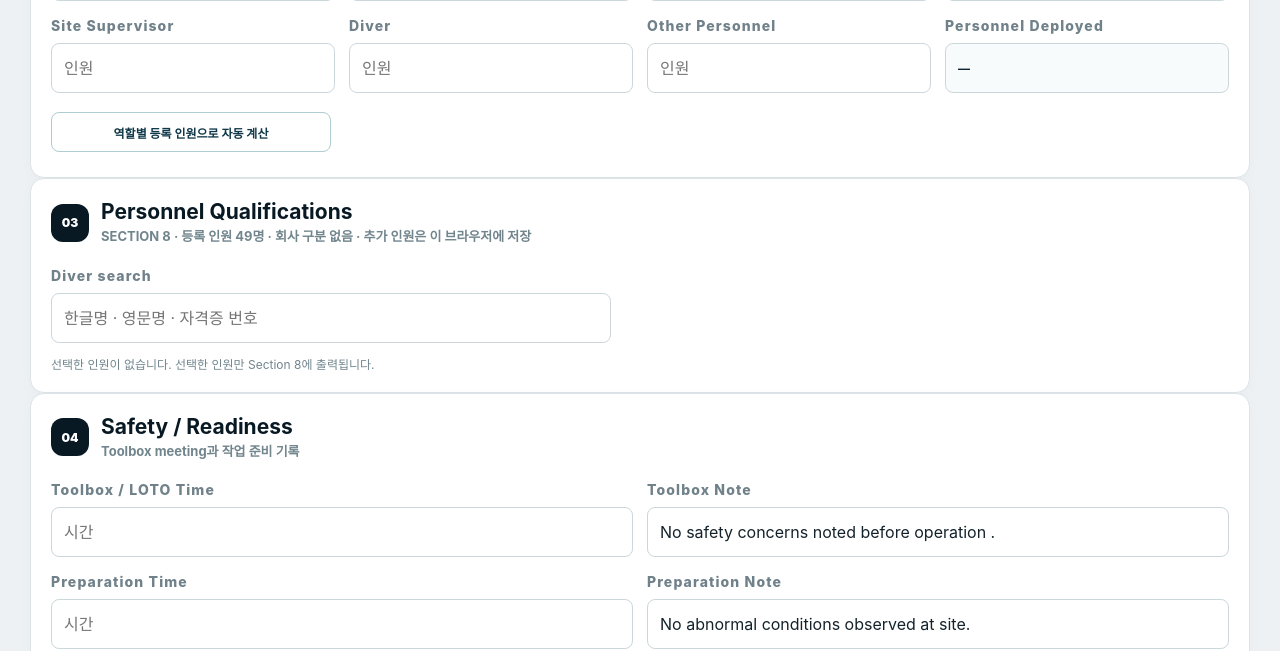
Test: Report Information › searches the company-neutral diver database and selects personnel for Section 8
(page scrolled)
In the field labelled "Diver search": (331, 318) left=51, top=292, right=611, bottom=342, type "Kim-Dongu"
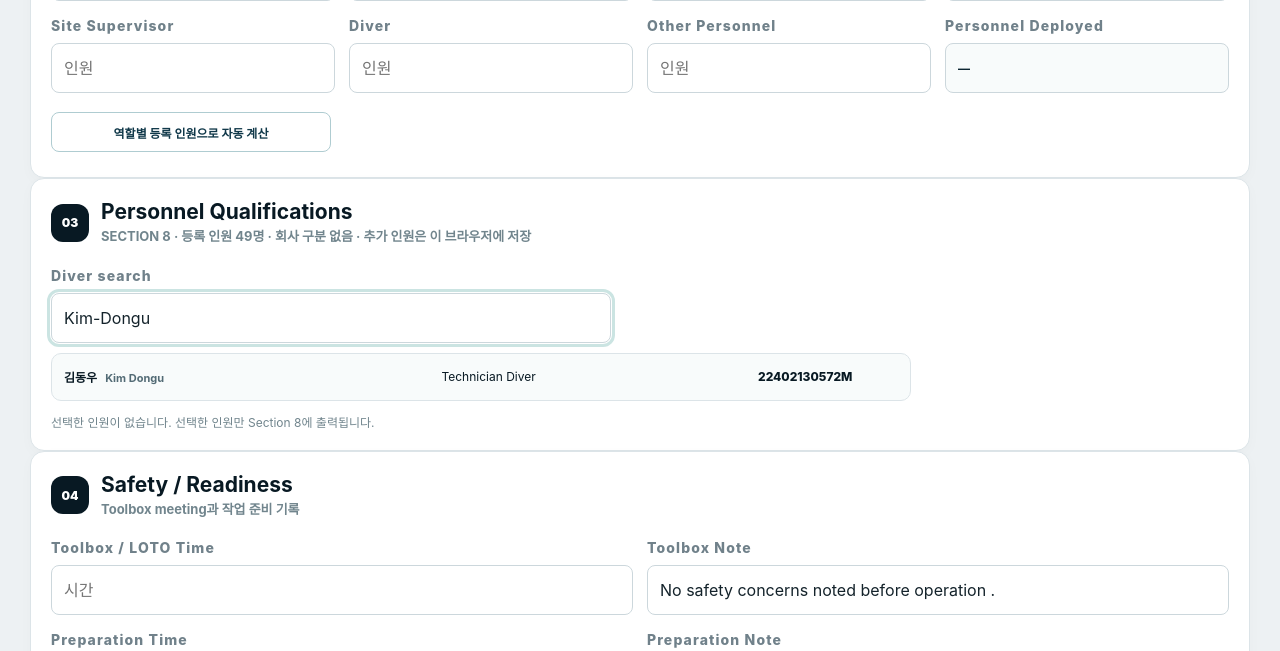
Expected: the button with aria-label "김동우 선택" shows "Kim Dongu"
Expected: the button with aria-label "김동우 선택" shows "22402130572M"
Click the button with aria-label "김동우 선택": (481, 376) left=51, top=352, right=911, bottom=400
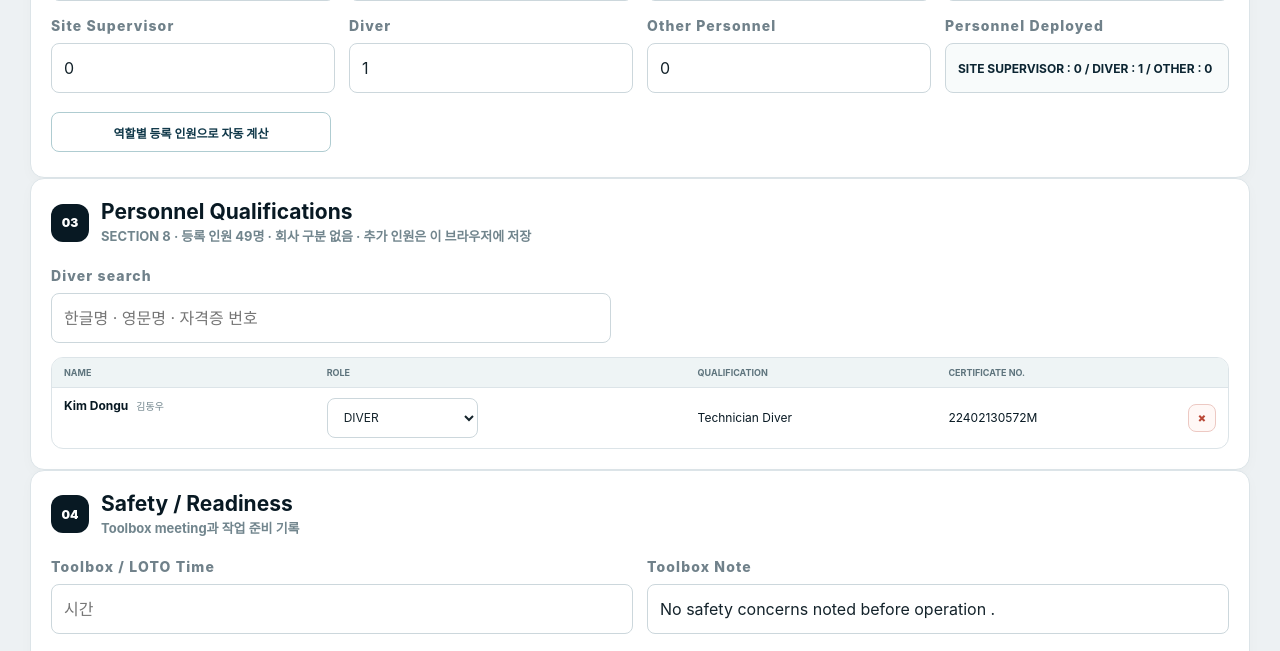
Expected: the text "Technician Diver" is shown, left=686, top=387, right=936, bottom=448
Expected: the text "Kim Dongu" is shown, left=64, top=398, right=128, bottom=413
Expected: the text named "Personnel Deployed" shows "DIVER : 1", left=958, top=60, right=1212, bottom=76
Click the button named "김동우 제외": (1202, 418) left=1188, top=404, right=1216, bottom=432
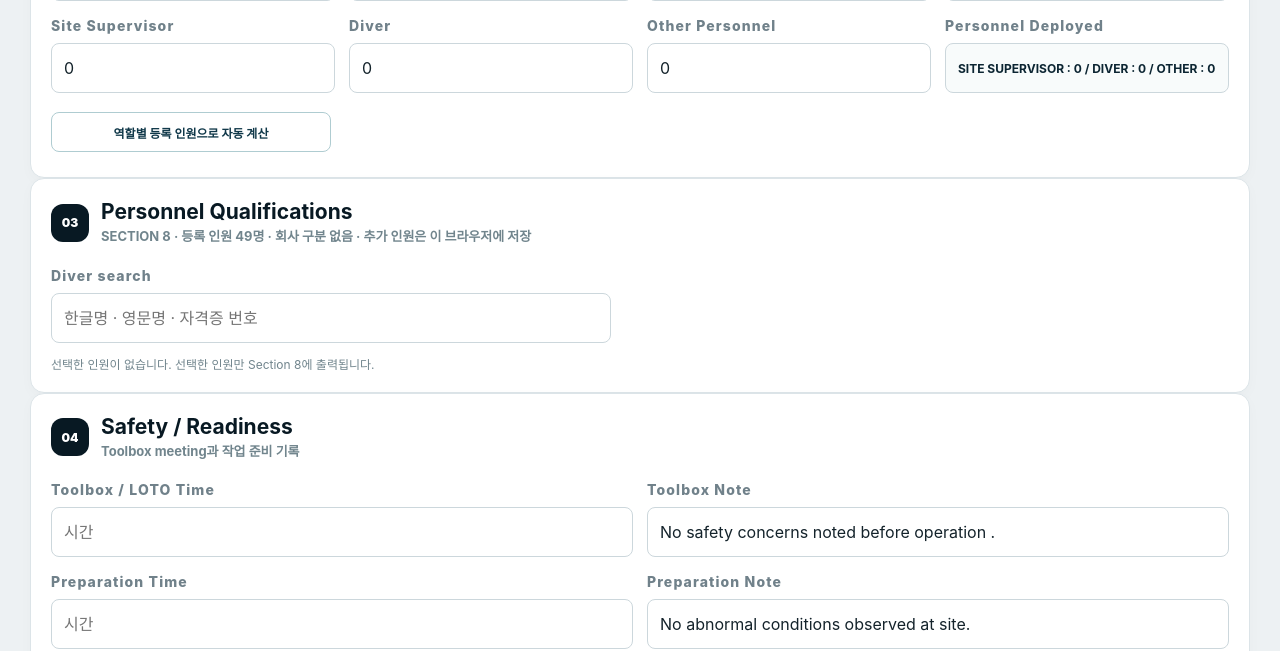
Expected: the field labelled "Diver" holds "0", left=349, top=43, right=633, bottom=93
Expected: the text named "Personnel Deployed" shows "DIVER : 0", left=958, top=60, right=1215, bottom=76
